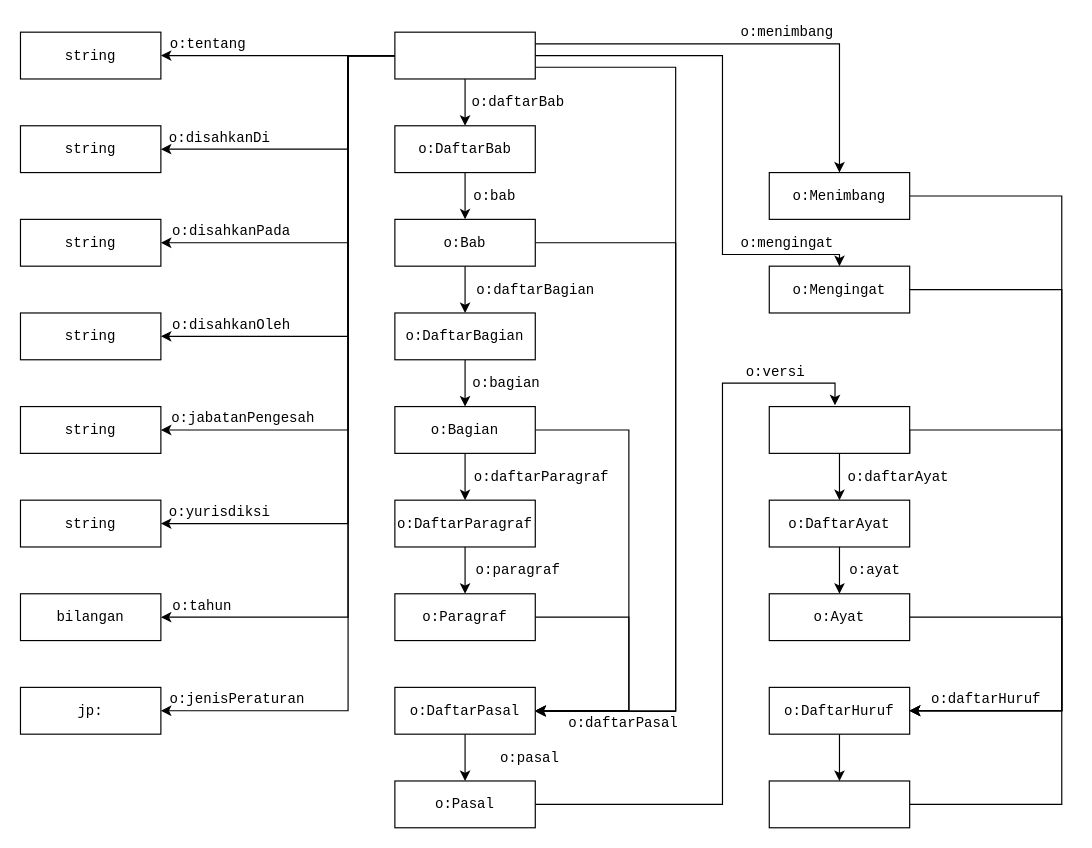
The diagram is 1092 pixels wide and 848 high, and some of its shapes have lost their labels. The centre of each missing label's shape, as x and y in pixels:
o:Huruf: point 839,804
o:Peraturan: point 464,55
o:VersiPasal: point 839,429
